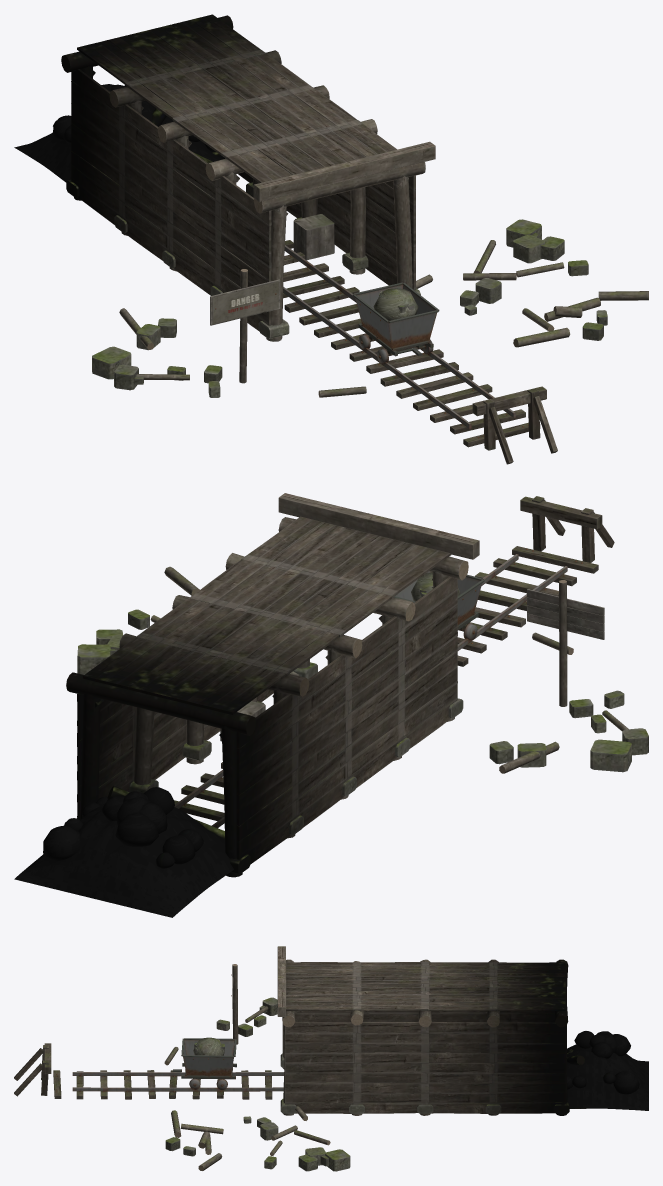
File: mine.glb
The picture shows the model from 3 angles, top to bottom: view 1: azimuth 30°, elevation 25°; view 2: azimuth 150°, elevation 25°; view 3: azimuth 270°, elevation 25°; orthographic projection. The views are drawn at different scales.
Parts seen in each view (by area): view 1: mine; view 2: mine; view 3: mine.
Part boxes in pixels (x1,y1,x2,y2): mine: [14, 14, 648, 464]; mine: [14, 493, 648, 917]; mine: [14, 946, 648, 1171].
Size of the model in its own units: 10.53 by 3.33 by 16.75.
1 material, 1 textured.
